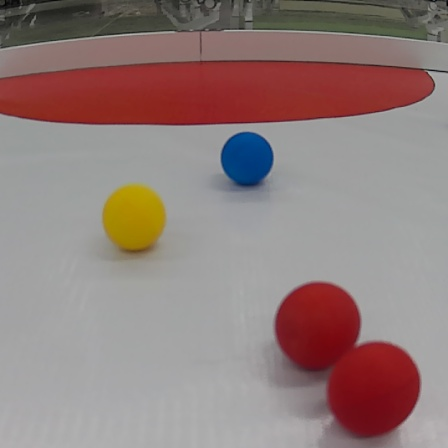blue: (218, 133, 283, 190)
red: (270, 275, 360, 373), (331, 338, 419, 437)
red_base: (2, 57, 445, 126)
yellow: (101, 181, 168, 252)
